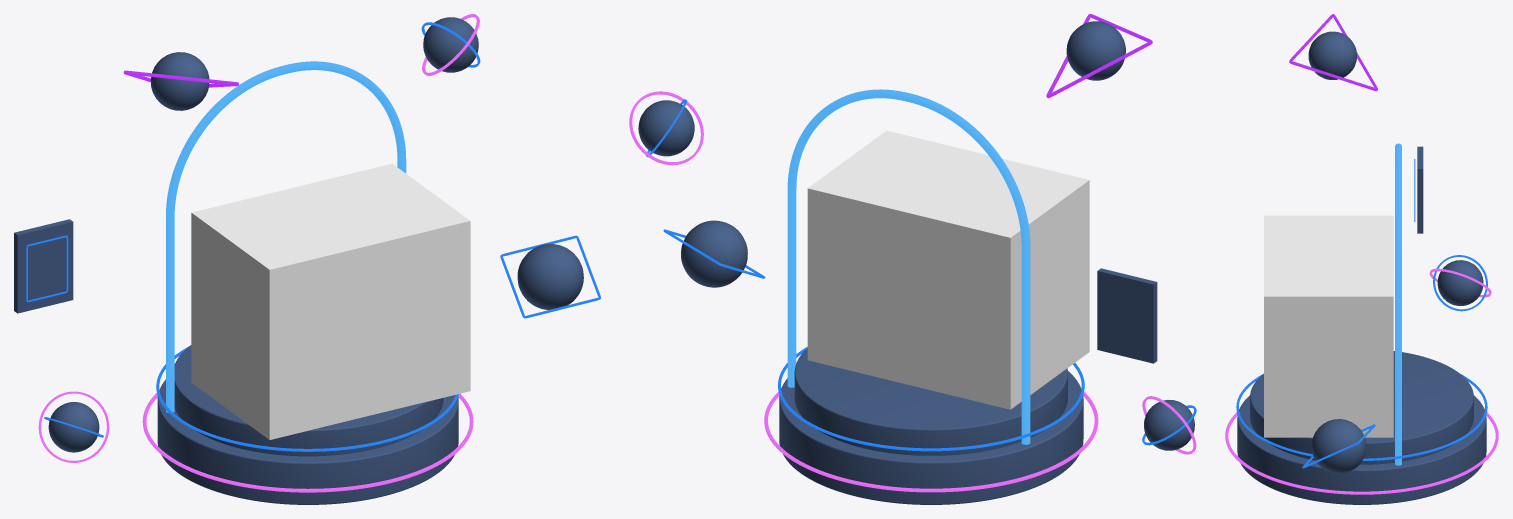
The model's file is podium_neon.glb.
The picture shows the model from 3 angles, left to right: view 1: azimuth 30°, elevation 25°; view 2: azimuth 150°, elevation 25°; view 3: azimuth 270°, elevation 25°; orthographic projection. The views are drawn at different scales.
Visible parts, largest first — view 1: placeholder, Cylinder002, Cylinder001, door, Cube, Sphere002, Sphere, Sphere001, Sphere005, Circle, Circle001, Sphere004 (+1 smaller); view 2: placeholder, Cylinder001, Cylinder002, door, Cube, Sphere002, Sphere, Sphere005, Sphere001, Circle, Circle001, Sphere005_1; view 3: placeholder, Cylinder002, Cylinder001, Sphere002, door, Sphere, Sphere005, Circle, Circle001, Sphere005_1, Cube.
Boxes of the visible parts, <box> form: placeholder: <box>191,163,470,439</box>; Cylinder002: <box>157,379,458,504</box>; Cylinder001: <box>174,345,443,456</box>; door: <box>166,61,406,412</box>; Cube: <box>14,219,73,313</box>; Sphere002: <box>517,244,583,309</box>; Sphere: <box>421,14,480,75</box>; Sphere001: <box>38,391,109,462</box>; Sphere005: <box>150,52,209,110</box>; Circle: <box>142,393,473,492</box>; Circle001: <box>156,346,458,451</box>; Sphere004: <box>500,235,600,318</box>; placeholder: <box>807,130,1089,409</box>; Cylinder001: <box>794,348,1067,455</box>; Cylinder002: <box>779,371,1083,504</box>; door: <box>787,89,1030,444</box>; Cube: <box>1097,268,1157,363</box>; Sphere002: <box>681,220,747,287</box>; Sphere: <box>629,91,703,165</box>; Sphere005: <box>1066,21,1125,80</box>; Sphere001: <box>1142,396,1196,454</box>; Circle: <box>764,392,1098,492</box>; Circle001: <box>778,347,1084,451</box>; Sphere005_1: <box>1046,14,1152,98</box>; placeholder: <box>1264,215,1393,437</box>; Cylinder002: <box>1237,395,1486,504</box>; Cylinder001: <box>1250,351,1473,464</box>; Sphere002: <box>1311,419,1366,473</box>; door: <box>1395,143,1401,465</box>; Sphere: <box>1429,255,1491,311</box>; Sphere005: <box>1308,31,1356,79</box>; Circle: <box>1225,412,1498,494</box>; Circle001: <box>1236,374,1487,460</box>; Sphere005_1: <box>1289,14,1377,91</box>; Cube: <box>1417,146,1423,233</box>.
Size of the model in its own units: 2.9 by 2.27 by 1.56.
